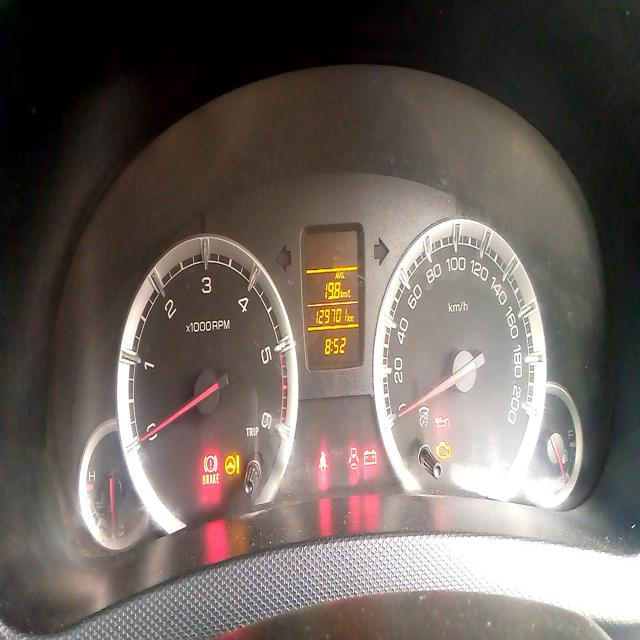odometer: (311, 303, 351, 328)
